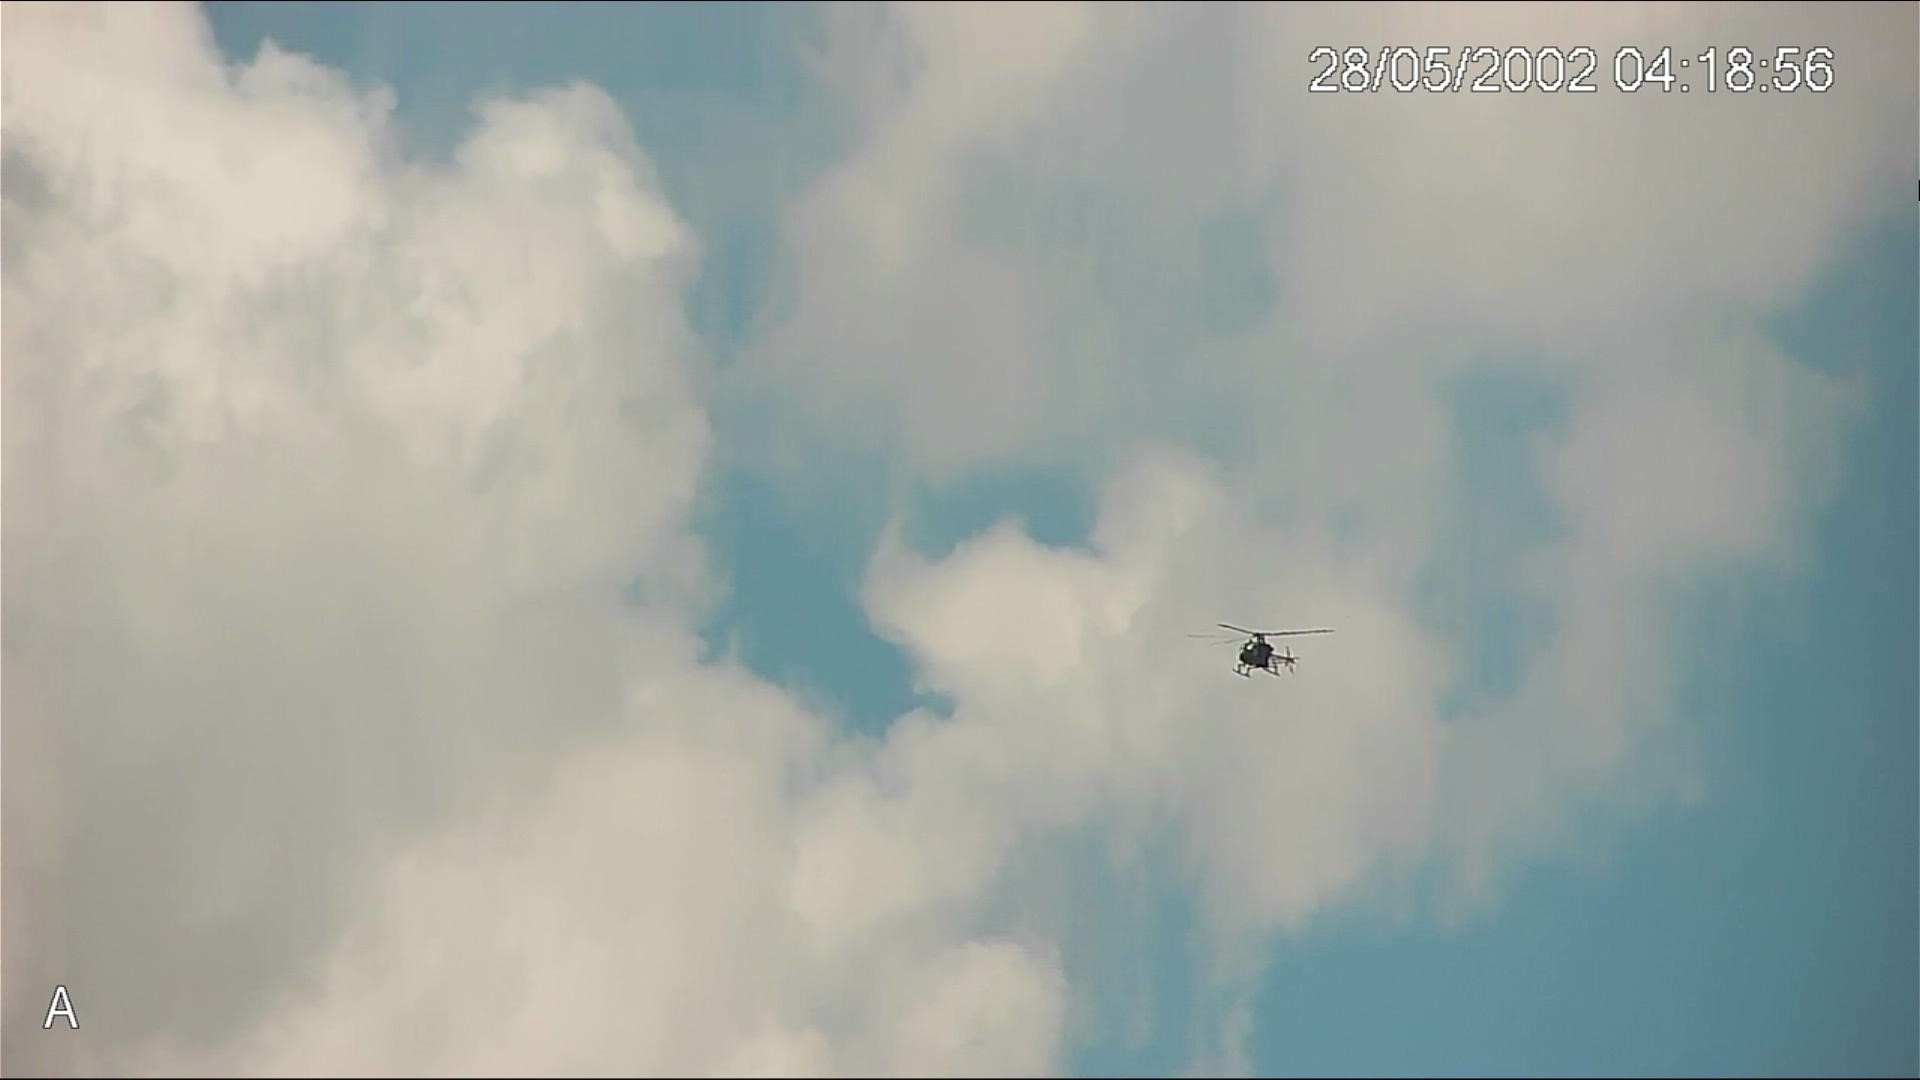SU_30: (1222, 625, 1298, 684)
